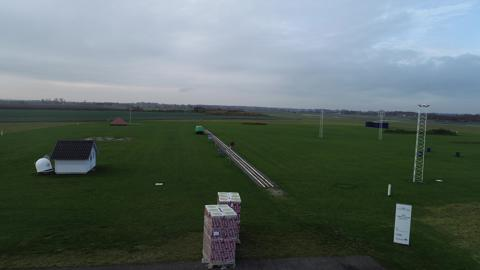RockwoolPallet: (217, 190, 242, 236)
